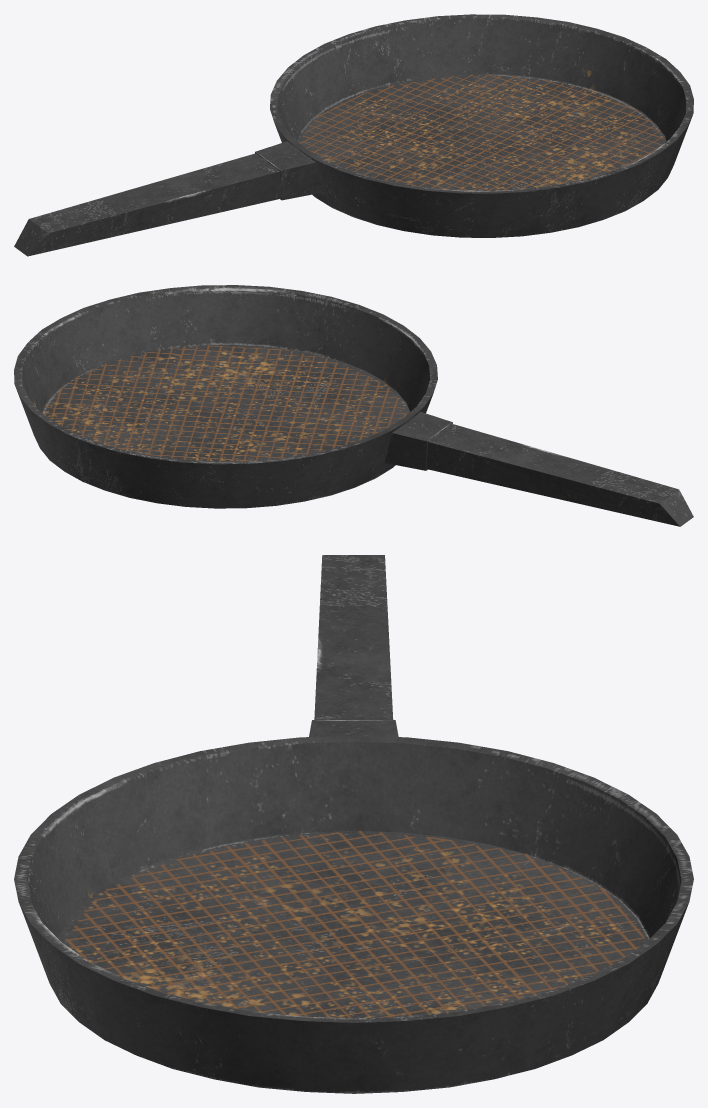
Rendered from FryingPan01.FBX.
3 views of the same model, one above another, from view 1: azimuth 30°, elevation 25°; view 2: azimuth 150°, elevation 25°; view 3: azimuth 270°, elevation 25° (orthographic). The views are drawn at different scales.
Visible parts, largest first — view 1: FryingPan01_LOD0; view 2: FryingPan01_LOD0; view 3: FryingPan01_LOD0.
Boxes of the visible parts, x1,y1,x2,y2 form: FryingPan01_LOD0: (14,14,693,256); FryingPan01_LOD0: (14,285,693,526); FryingPan01_LOD0: (14,555,693,1093).
Size of the model in its own units: 42.01 by 23.95 by 3.27.
